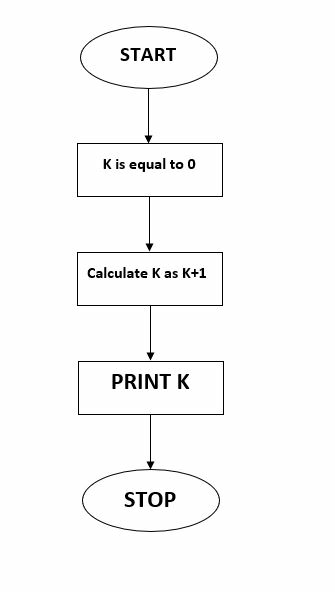arrow: (80, 466, 223, 534), (141, 194, 155, 251), (143, 86, 155, 144), (144, 304, 156, 360), (143, 413, 155, 469)
process: (73, 249, 227, 310), (74, 357, 227, 418), (73, 139, 225, 200)
terminator: (78, 24, 221, 91)
text: (83, 264, 209, 283), (107, 369, 194, 394), (98, 156, 199, 174), (115, 44, 179, 66), (121, 488, 176, 511)
